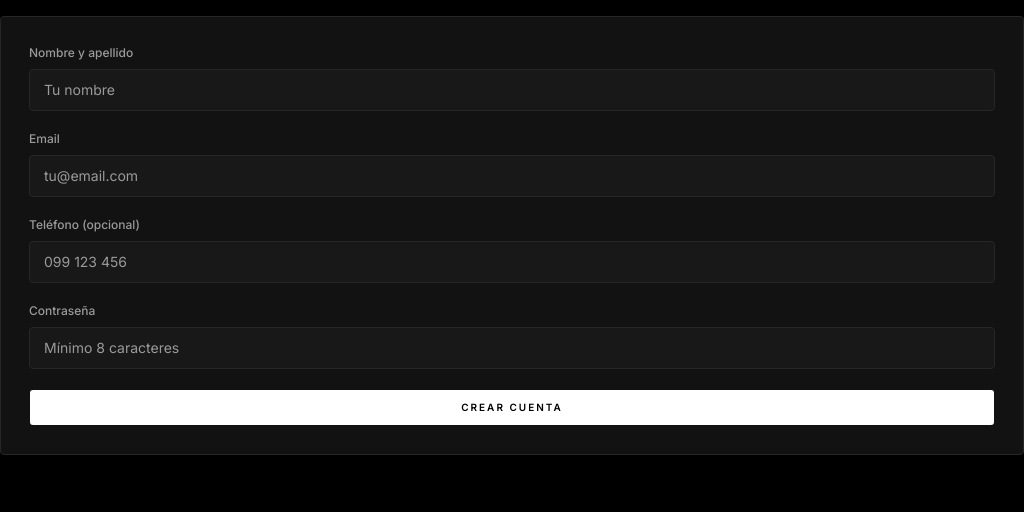
Scenario: RegisterForm › points to sign-in when the email already exists
Step 1. Type "Ana Pérez" into the field labelled "Nombre y apellido" → (512, 90), box [29,69,995,111]
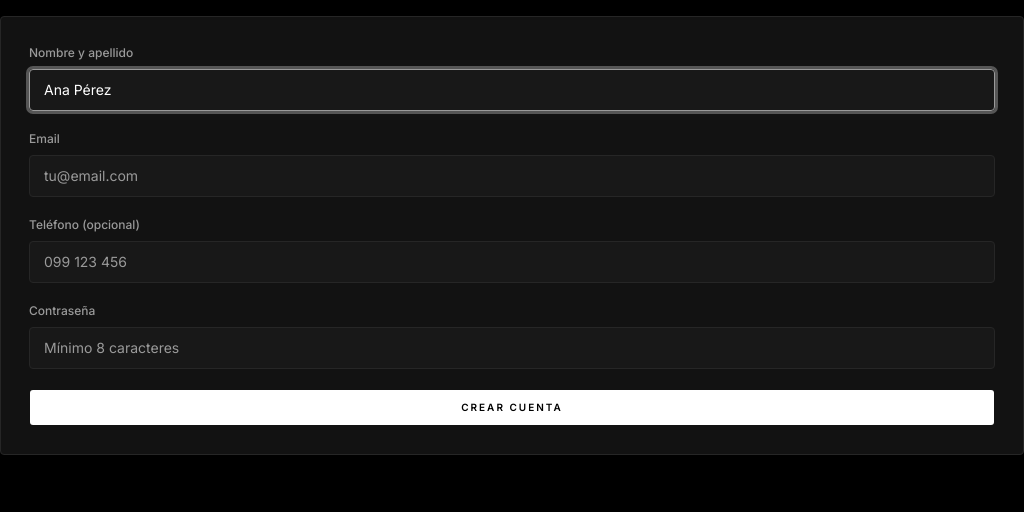
Step 2. Type "ana@test.move" into the field labelled "Email" → (512, 176), box [29,155,995,197]
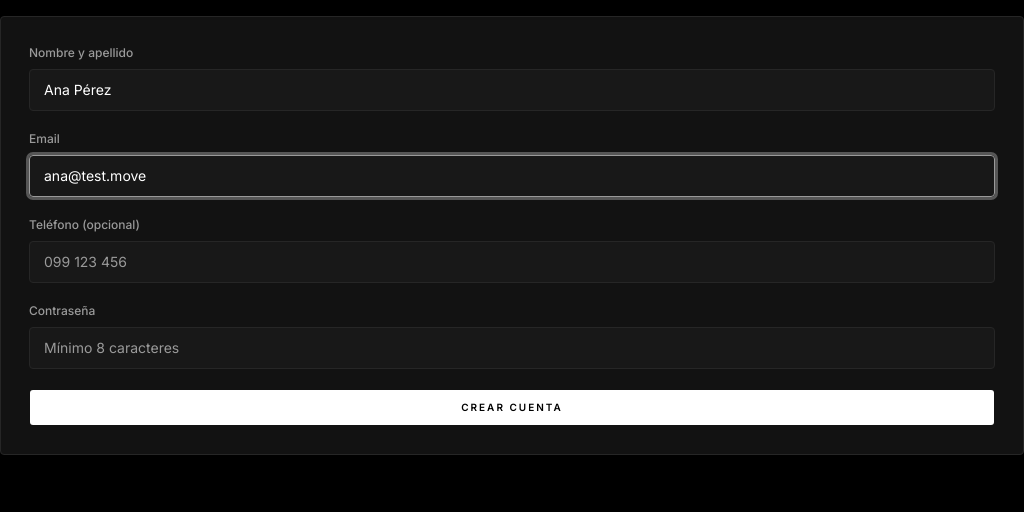
Step 3. Type "Secreto123!" into the password field labelled "Contraseña" → (512, 348), box [29,327,995,369]
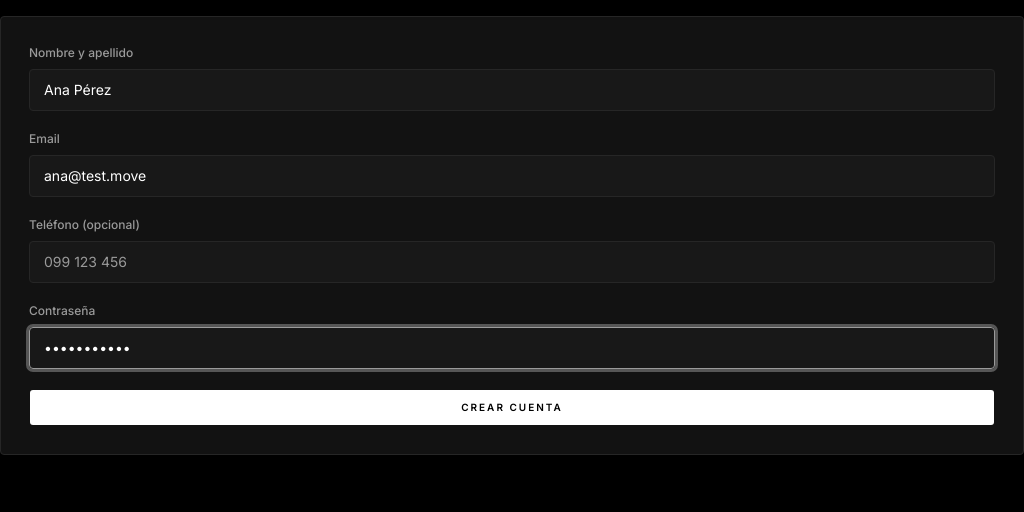
Step 4. Click the button "Crear cuenta" → (512, 408), box [29,389,995,426]
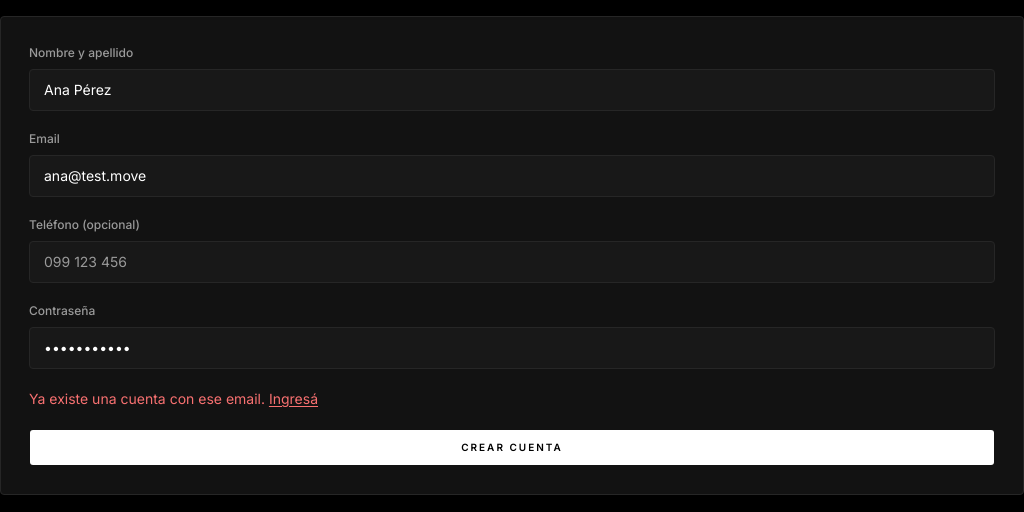
Check: the text "Ya existe una cuenta con ese email. Ingresá" is shown, box [29,390,318,407]
